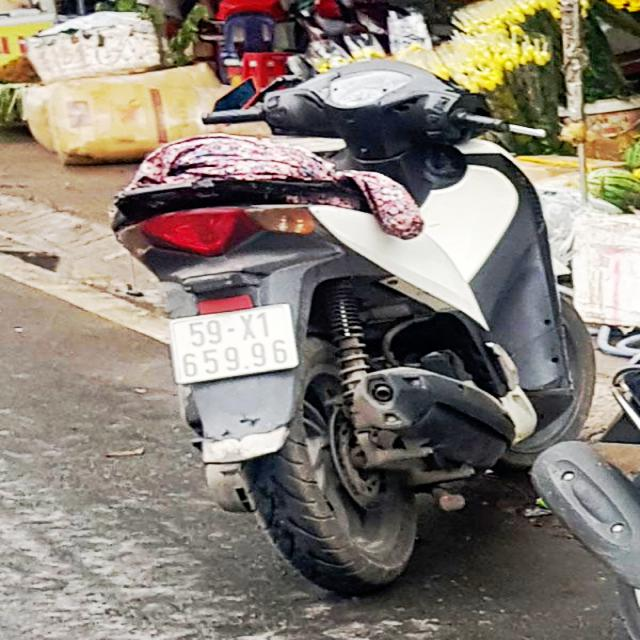license_plate: (168, 301, 298, 388)
